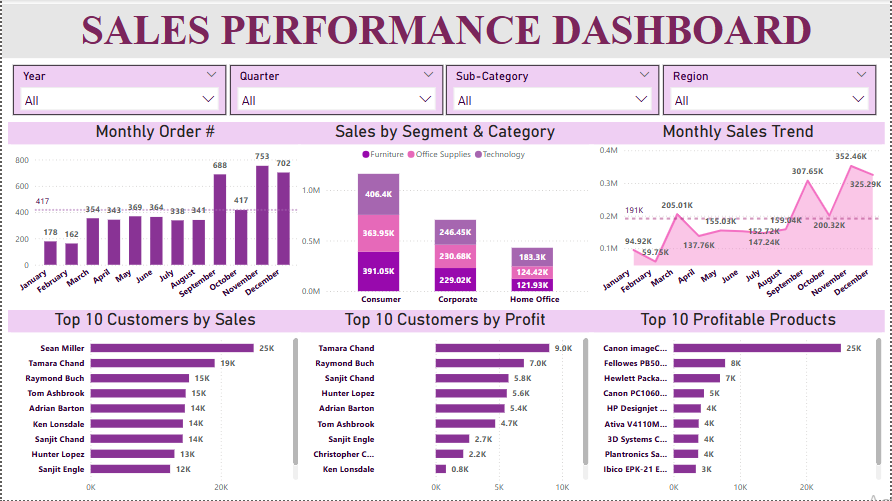

The dashboard page shown, as its layout file describes it:
{"tool":"powerbi","page":{"name":"Page 1","canvas":[1280,720],"ordinal":0},"visuals":[{"type":"textbox","box":[-0.5,5.8,1280.2,77.8],"z":0},{"type":"slicer","fields":{"Values":["Orders.Order Date.Variation.Date Hierarchy.Year"]},"box":[15.7,93.6,306.7,72],"z":1000},{"type":"slicer","fields":{"Values":["Orders.Order Date.Variation.Date Hierarchy.Quarter"]},"box":[327.7,93.6,306.7,72],"z":2000},{"type":"slicer","fields":{"Values":["Orders.Sub-Category"]},"box":[639.7,93.6,306.7,72],"z":3000},{"type":"slicer","fields":{"Values":["Orders.Region"]},"box":[951.7,93.6,306.7,72],"z":4000},{"type":"clusteredColumnChart","title":"Monthly Order #","fields":{"Category":["Orders.Order Date.Variation.Date Hierarchy.Month"],"Y":["Count(Orders.Order ID)"]},"box":[8.6,175.7,423.4,273.6],"z":5000},{"type":"columnChart","title":"Sales by Segment & Category","fields":{"Category":["Orders.Segment"],"Y":["Sum(Orders.Sales)"],"Series":["Orders.Category"]},"box":[426.2,175.7,423.4,273.6],"z":6000},{"type":"areaChart","title":"Monthly Sales Trend","fields":{"Category":["Orders.Order Date.Variation.Date Hierarchy.Month"],"Y":["Sum(Orders.Sales)"]},"box":[848.2,175.7,423.4,273.6],"z":7000},{"type":"clusteredBarChart","title":"Top 10 Customers by Sales","fields":{"Category":["Orders.Customer Name"],"Y":["Sum(Orders.Sales)"]},"box":[8.6,446.4,423.4,273.6],"z":7001},{"type":"clusteredBarChart","title":"Top 10 Customers by Profit","fields":{"Category":["Orders.Customer Name"],"Y":["Sum(Orders.Profit)"]},"box":[426.2,446.4,423.4,273.6],"z":7002},{"type":"clusteredBarChart","title":"Top 10 Profitable Products","fields":{"Y":["Sum(Orders.Profit)"],"Category":["Orders.Product Name"]},"box":[848.2,446.4,423.4,273.6],"z":7003}]}

Visuals, with their boxes in screenshot pixels (x1, y1, x2, y2), scaled from the page's 1280x720 canvas onto the 892x501 screenshot:
textbox: bbox=[0, 4, 891, 58]
slicer - Orders.Order Date.Variation.Date Hierarchy.Year: bbox=[11, 65, 225, 115]
slicer - Orders.Order Date.Variation.Date Hierarchy.Quarter: bbox=[228, 65, 442, 115]
slicer - Orders.Sub-Category: bbox=[446, 65, 660, 115]
slicer - Orders.Region: bbox=[663, 65, 877, 115]
"Monthly Order #" clusteredColumnChart: bbox=[6, 122, 301, 313]
"Sales by Segment & Category" columnChart: bbox=[297, 122, 592, 313]
"Monthly Sales Trend" areaChart: bbox=[591, 122, 886, 313]
"Top 10 Customers by Sales" clusteredBarChart: bbox=[6, 311, 301, 500]
"Top 10 Customers by Profit" clusteredBarChart: bbox=[297, 311, 592, 500]
"Top 10 Profitable Products" clusteredBarChart: bbox=[591, 311, 886, 500]
